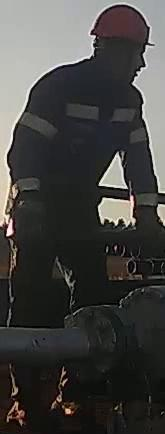helmet: (91, 3, 157, 54)
vest: (6, 56, 158, 250)
